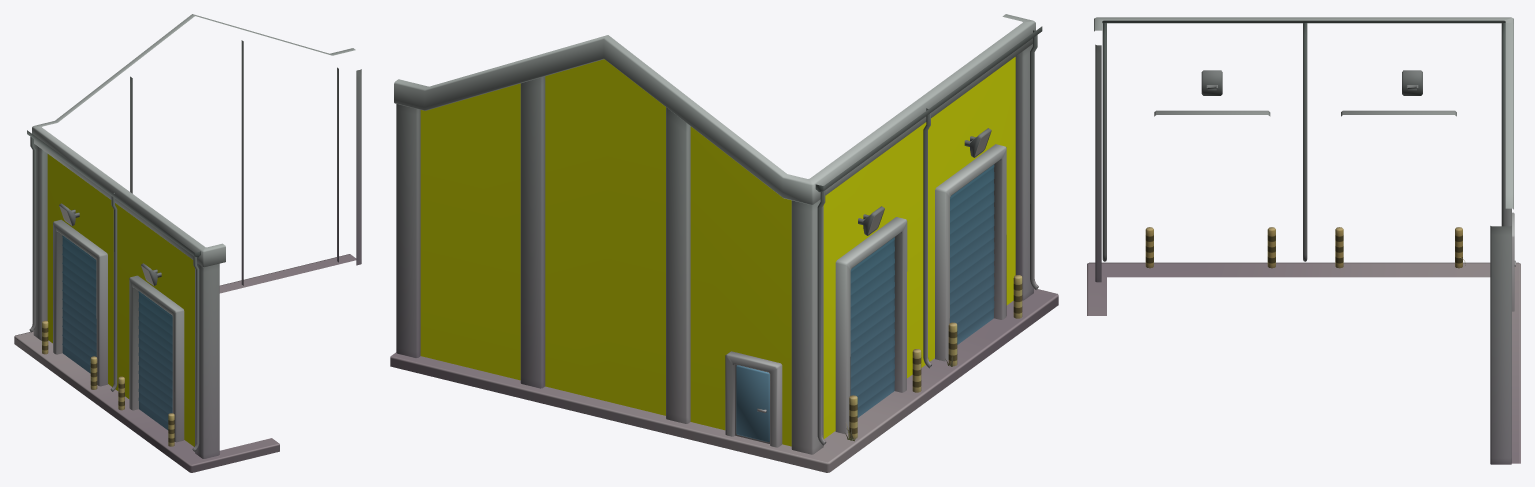
File: Warehouse01.glb
3 views of the same model, side by side, from view 1: azimuth 30°, elevation 25°; view 2: azimuth 150°, elevation 25°; view 3: azimuth 270°, elevation 25° (orthographic). The views are drawn at different scales.
Parts seen in each view (by area): view 1: Warehouse01; view 2: Warehouse01; view 3: Warehouse01.
Boxes of the visible parts, x1=… form: Warehouse01: x1=14, y1=14, x2=361, y2=472; Warehouse01: x1=390, y1=14, x2=1058, y2=472; Warehouse01: x1=1087, y1=17, x2=1520, y2=464.
Size of the model in its own units: 19.87 by 16.3 by 18.12.
2 materials, 1 textured.
